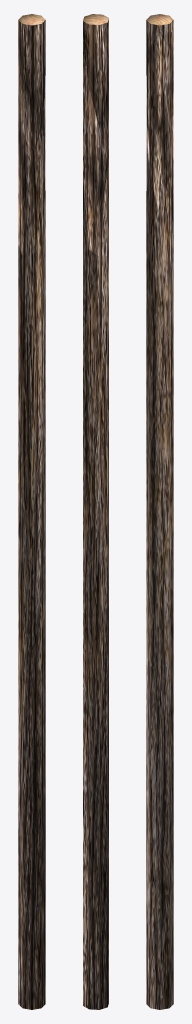
Rendered from Stick.fbx.
3 views of the same model, side by side, from view 1: azimuth 90°, elevation 25°; view 2: azimuth 150°, elevation 25°; view 3: azimuth 270°, elevation 25° (orthographic).
Parts seen in each view (by area): view 1: stick, piece_1, piece_4, piece_3; view 2: stick, piece_4, piece_1, piece_2; view 3: stick, piece_2, piece_1, piece_4, piece_3.
Part boxes in pixels (<box>): stick: <box>18,128,45,1009</box>; piece_1: <box>18,14,45,162</box>; piece_4: <box>18,85,31,254</box>; piece_3: <box>41,87,45,140</box>; stick: <box>83,130,108,1009</box>; piece_4: <box>83,89,107,256</box>; piece_1: <box>83,14,108,158</box>; piece_2: <box>83,47,89,169</box>; stick: <box>146,145,173,1009</box>; piece_2: <box>146,34,173,214</box>; piece_1: <box>146,14,173,82</box>; piece_4: <box>169,86,173,244</box>; piece_3: <box>146,91,150,173</box>.
Size of the model in its own units: 10 by 400 by 10.
1 material, 1 textured.
